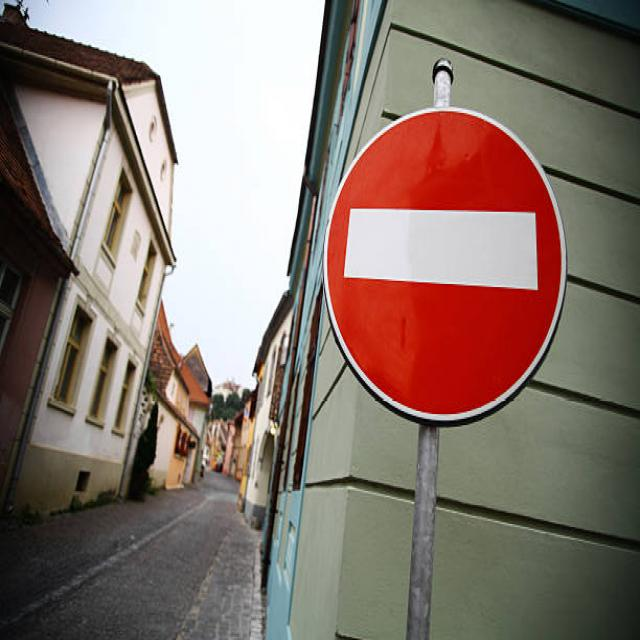do_not_enter: (310, 98, 564, 435)
